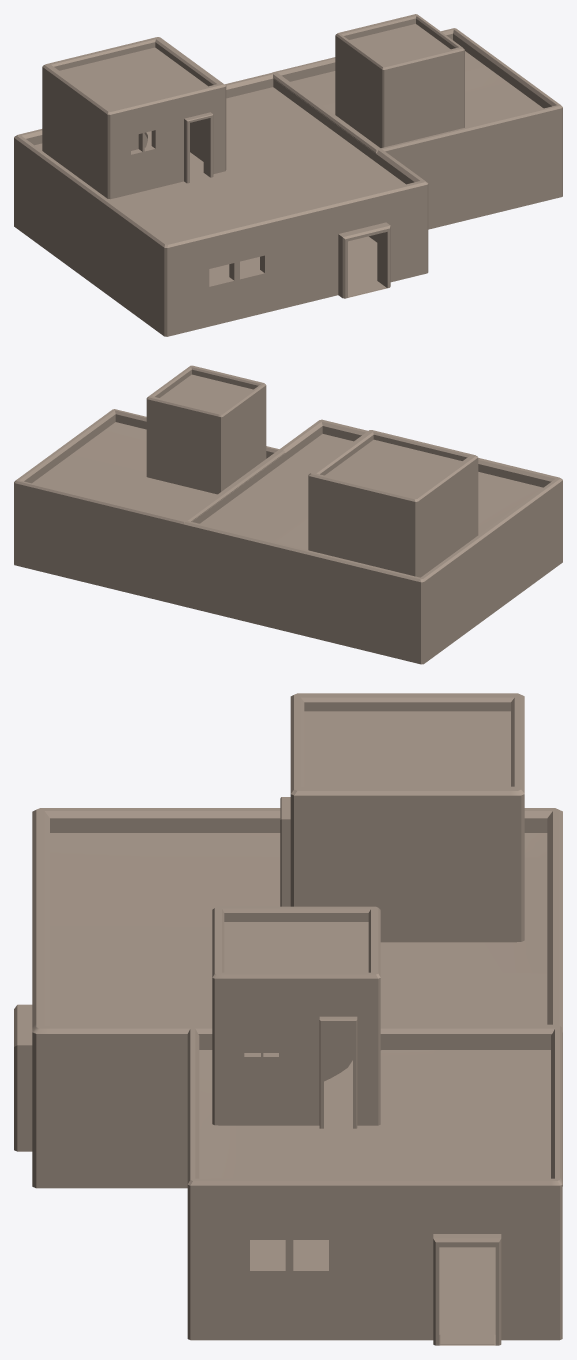
File: hovel_2.fbx
3 views of the same model, one above another, from view 1: azimuth 30°, elevation 25°; view 2: azimuth 150°, elevation 25°; view 3: azimuth 270°, elevation 25° (orthographic). The views are drawn at different scales.
Parts seen in each view (by area): view 1: hovel_interior10; view 2: hovel_interior10; view 3: hovel_interior10.
Boxes of the visible parts, x1,y1,x2,y2 form: hovel_interior10: (14,14,562,336); hovel_interior10: (14,365,562,664); hovel_interior10: (14,693,562,1345).
Bounding box in the file's own units: 40.74 × 14.31 × 24.79.
